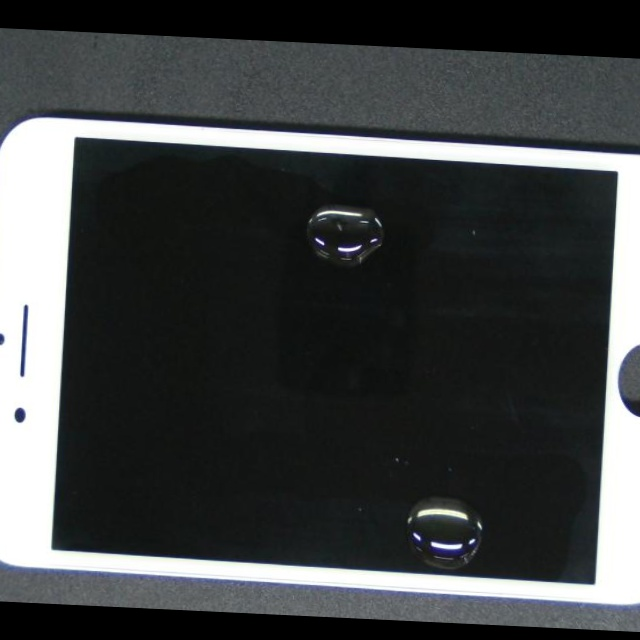oil: (252, 289, 640, 635), (197, 141, 588, 306)
